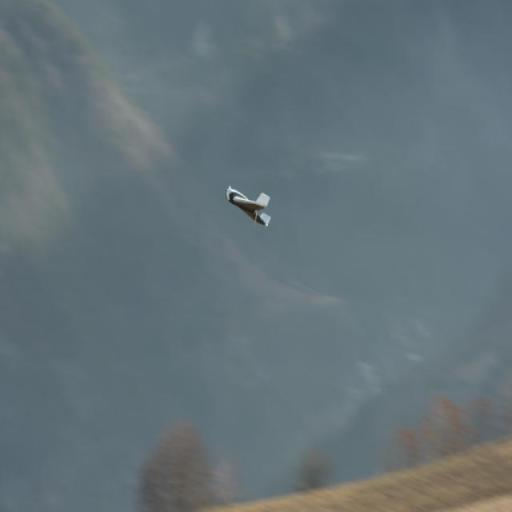uav: (223, 175, 276, 240)
